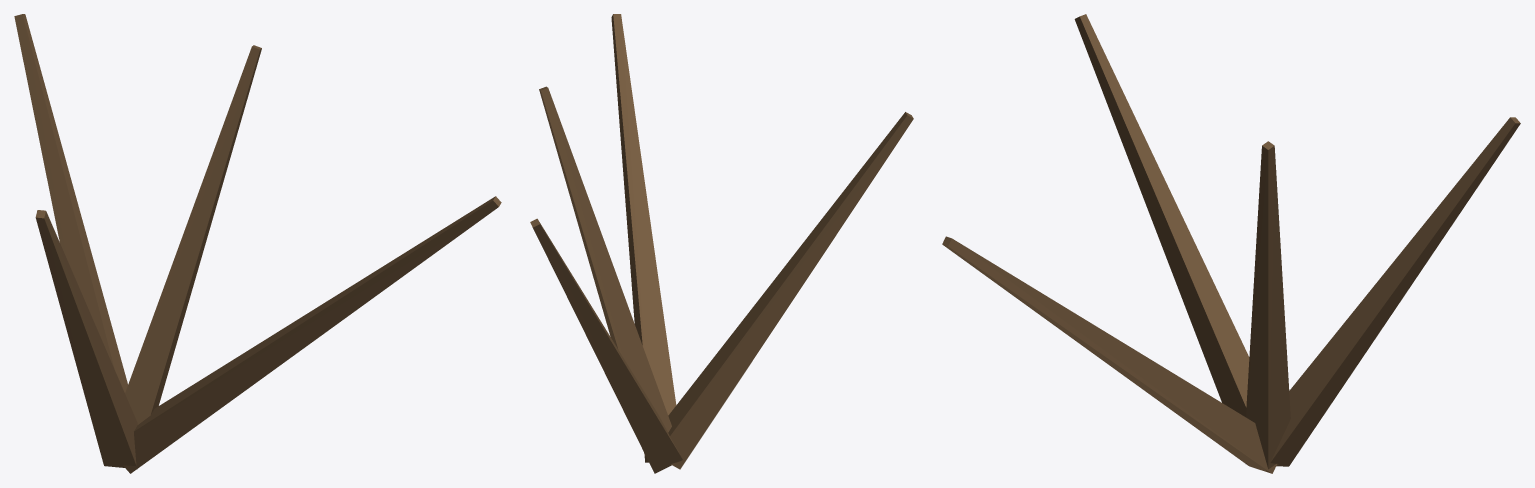
File: dry_shrub-far.glb
3 renders of one model, left to right at view 1: azimuth 30°, elevation 25°; view 2: azimuth 150°, elevation 25°; view 3: azimuth 270°, elevation 25°, orthographic. The views are drawn at different scales.
Parts seen in each view (by area): view 1: world-scenery/dry_shrub-far; view 2: world-scenery/dry_shrub-far; view 3: world-scenery/dry_shrub-far.
Boxes of the visible parts, x1,y1,x2,y2 form: world-scenery/dry_shrub-far: (14,14,501,473); world-scenery/dry_shrub-far: (530,14,913,473); world-scenery/dry_shrub-far: (942,14,1520,473).
Size of the model in its own units: 0.6557 by 0.6087 by 0.8202.
